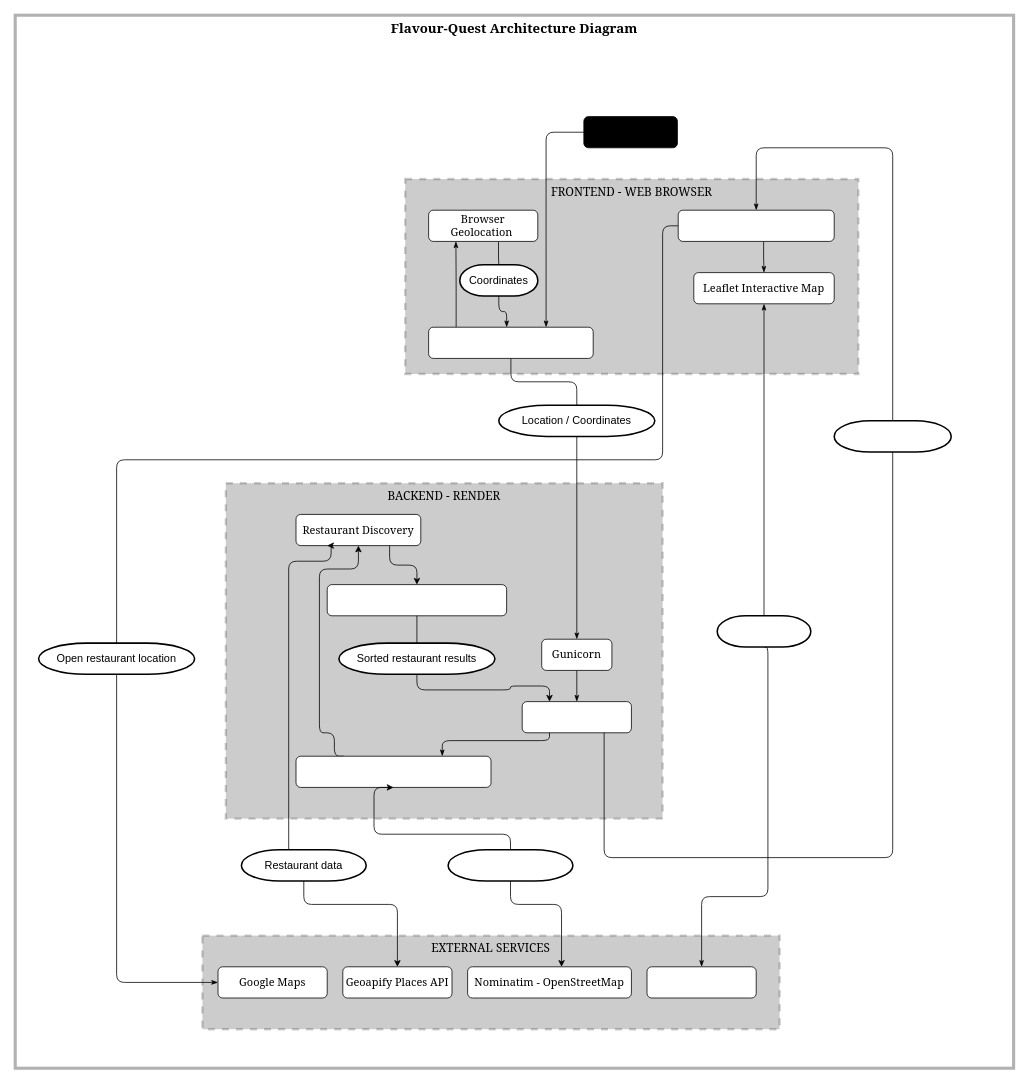
The diagram is 1028 pixels wide and 1083 high, and some of its shapes have lost their labels. Each missing label, with the centre of its shape:
"Distance Calculation & Sorting" goes at pixel 416 600.
"Flask Application" goes at pixel 576 717.
"Flavour Quest Web Interface" goes at pixel 510 342.
"Geocoding" goes at pixel 510 865.
"Location Processing & Geocoding" goes at pixel 393 771.
"Map tiles" goes at pixel 763 631.
"OpenStreetMap Tiles" goes at pixel 701 982.
"Rendered Results" goes at pixel 892 436.
"Restaurant Resuls & Filters" goes at pixel 755 225.
